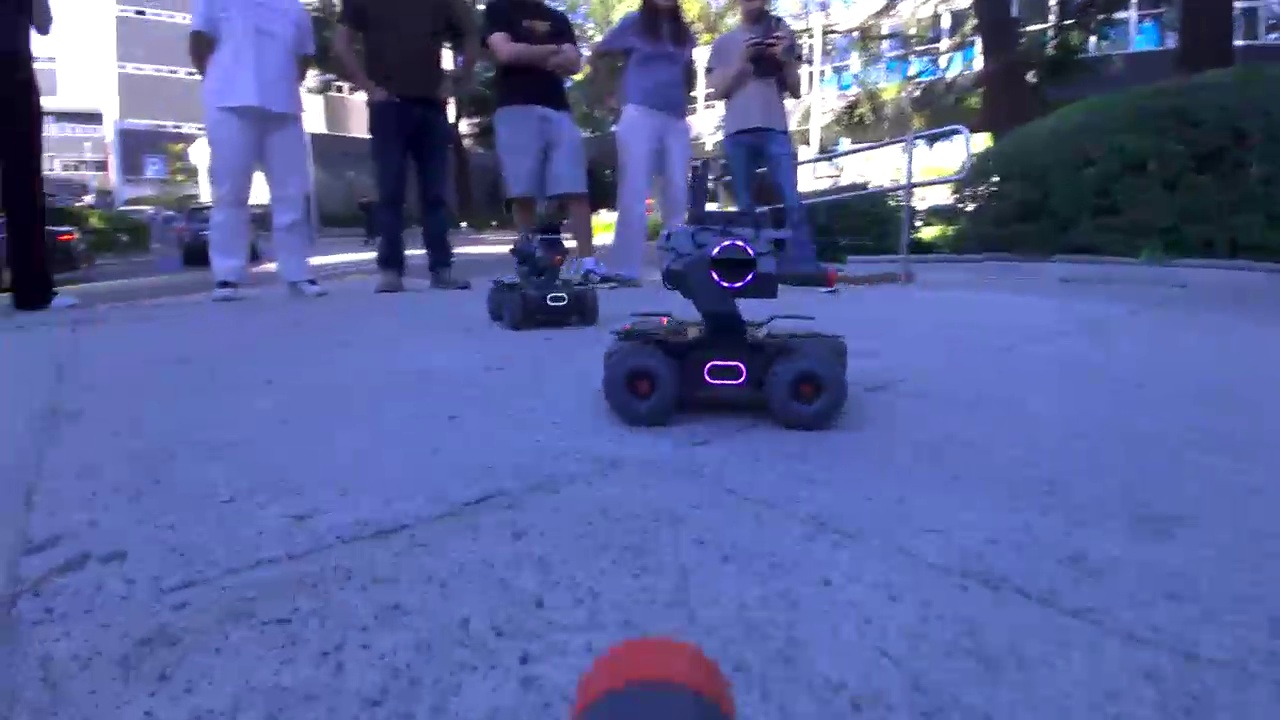robot: (589, 239, 867, 443), (492, 225, 603, 334)
